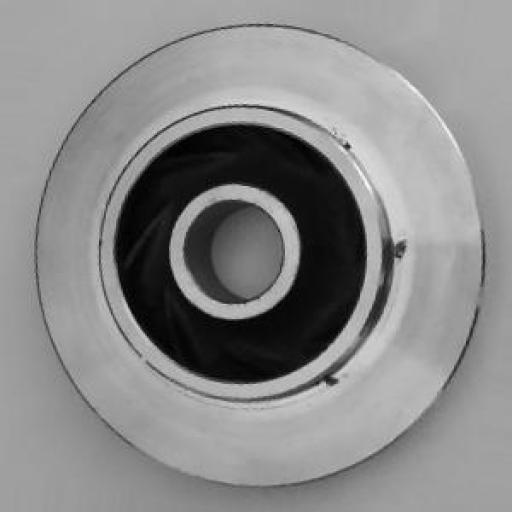defect: (320, 110, 436, 428)
